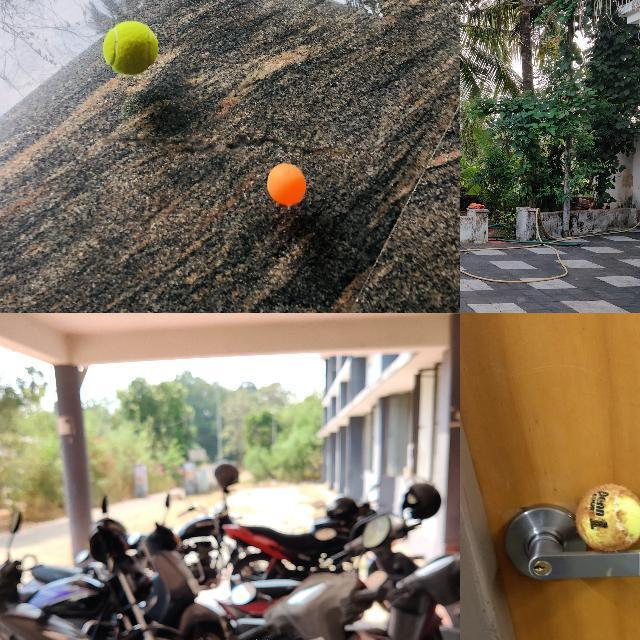tennis-ball: (574, 482, 639, 551), (103, 21, 157, 74)
